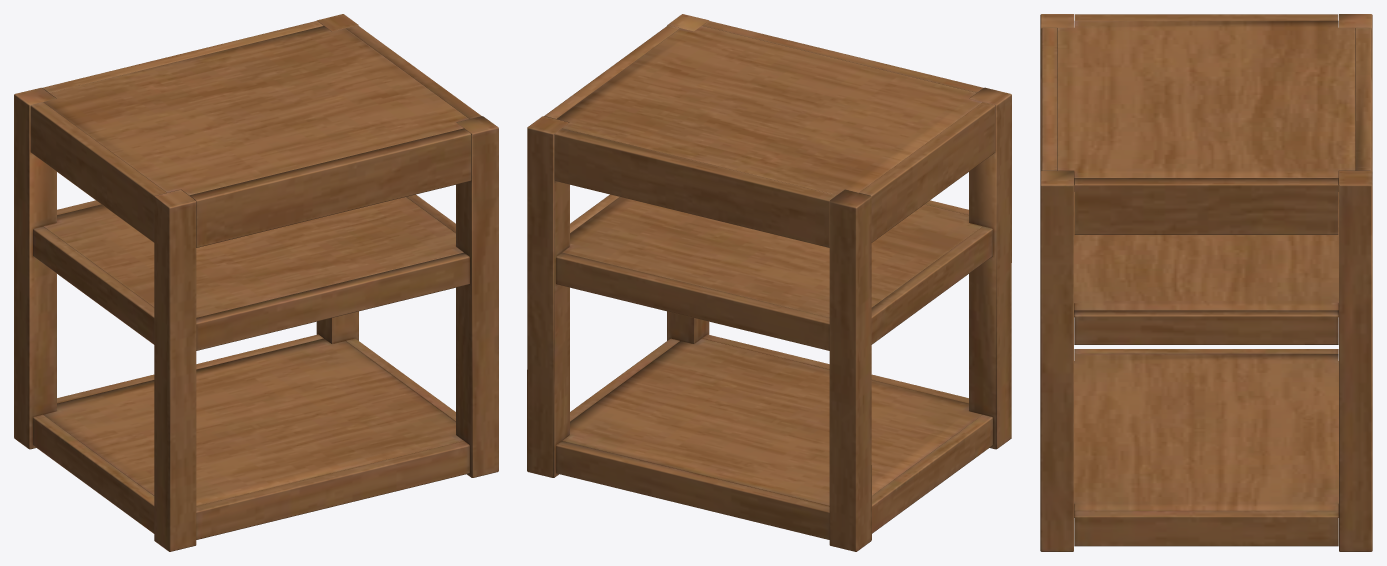
The model's file is side_table_01.glb.
The picture shows the model from 3 angles, left to right: view 1: azimuth 30°, elevation 25°; view 2: azimuth 150°, elevation 25°; view 3: azimuth 270°, elevation 25°; orthographic projection. The views are drawn at different scales.
Parts seen in each view (by area): view 1: side_table_01; view 2: side_table_01; view 3: side_table_01.
Part boxes in pixels (bbox=[...]): side_table_01: bbox=[14, 14, 498, 551]; side_table_01: bbox=[527, 14, 1011, 551]; side_table_01: bbox=[1040, 14, 1372, 551].
Size of the model in its own units: 0.55 by 0.5507 by 0.45.
1 material, 1 textured.
